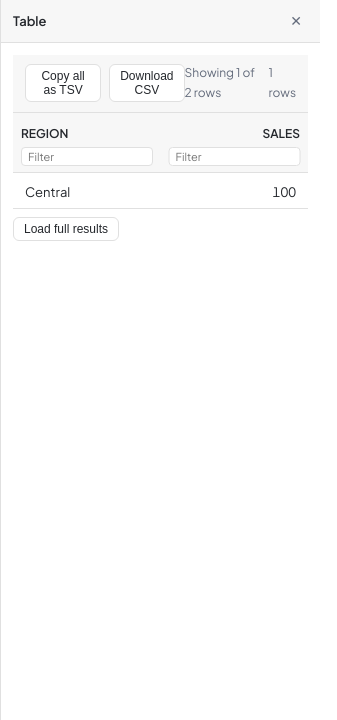
RightPanel › fetches and renders the full result set when "Load full results" is clicked
This screenshot has width=337, height=720.
Expected: the text "Showing 1 of 2 rows" is shown, x1=184 y1=63 x2=258 y2=104
Click the button "Load full results" at (66, 229), box x1=13 y1=217 x2=119 y2=241
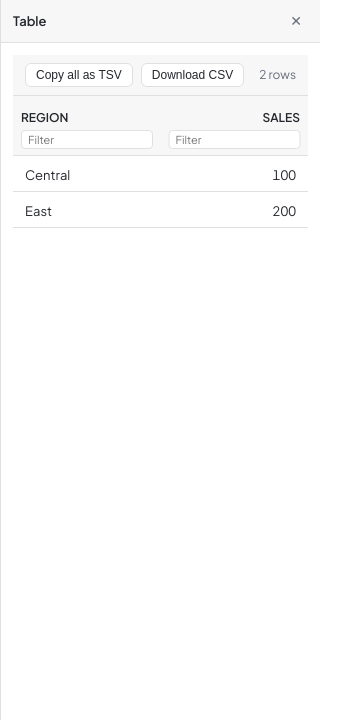
Expected: the text "Showing" is gone
